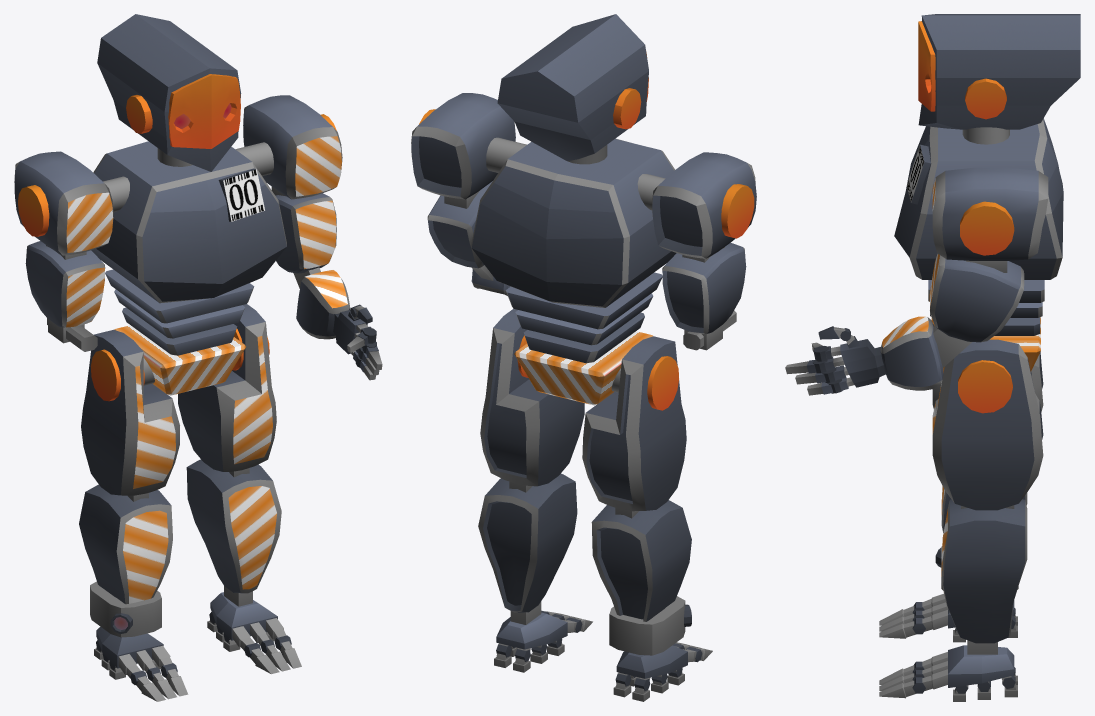
Rendered from RobotSliced.fbx.
3 views of the same model, side by side, from view 1: azimuth 30°, elevation 25°; view 2: azimuth 150°, elevation 25°; view 3: azimuth 270°, elevation 25° (orthographic). The views are drawn at different scales.
Parts seen in each view (by area): view 1: RobotSliced, Torso, Arm_L, Head, Arm_R; view 2: RobotSliced, Torso, Head, Arm_R, Arm_L; view 3: RobotSliced, Arm_L, Head, Torso.
Boxes of the visible parts, x1,y1,x2,y2 form: RobotSliced: (79, 148, 301, 701); Torso: (91, 141, 286, 355); Arm_L: (243, 95, 382, 380); Head: (97, 14, 241, 171); Arm_R: (14, 151, 113, 351); RobotSliced: (478, 145, 712, 701); Torso: (471, 137, 676, 363); Head: (497, 14, 648, 161); Arm_R: (652, 152, 756, 350); Arm_L: (411, 93, 515, 295); RobotSliced: (879, 127, 1043, 701); Arm_L: (785, 167, 1048, 395); Head: (918, 14, 1080, 129); Torso: (894, 118, 1063, 335).
Size of the model in its own units: 120 by 232 by 96.49.
